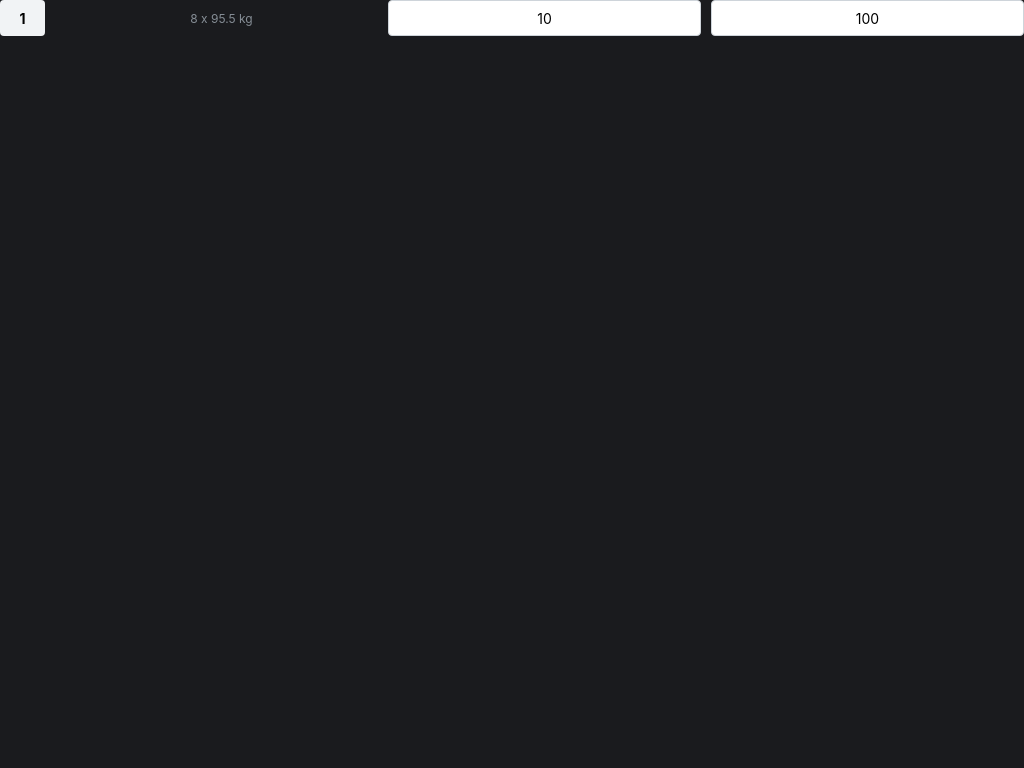
it: SetCard Component › opens a confirmation modal upon clicking the delete set button
Click the field named "Set Number": (22, 18) x1=0 y1=0 x2=45 y2=36
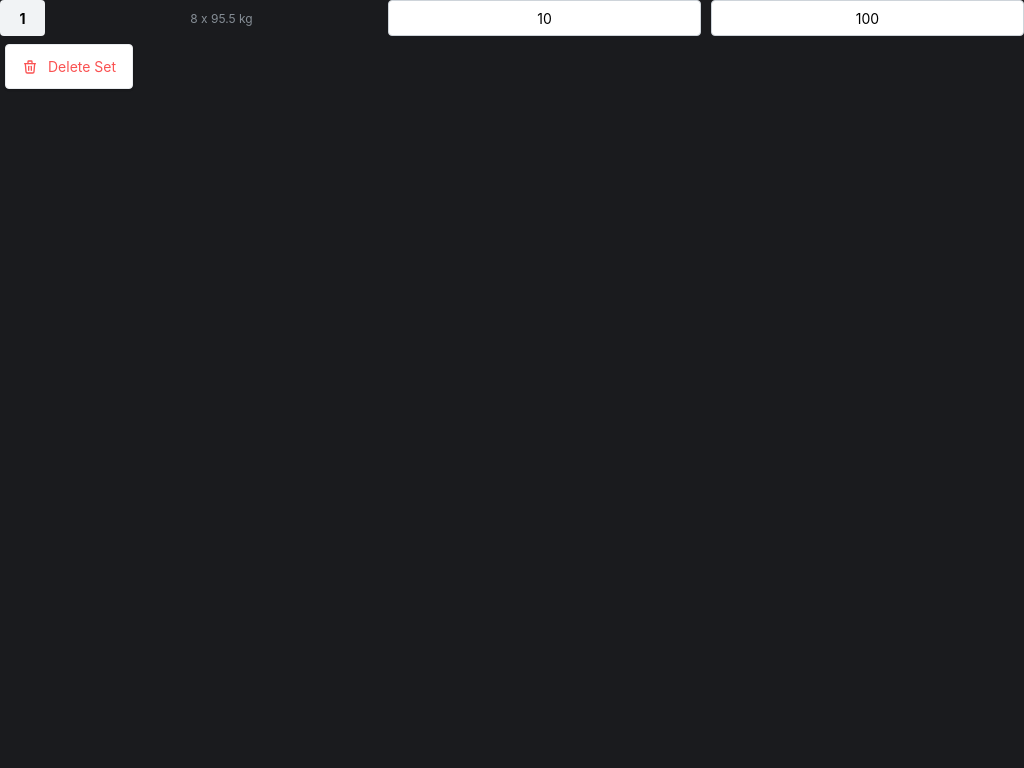
Click the menu item "Delete Set": (69, 66) x1=10 y1=49 x2=128 y2=84
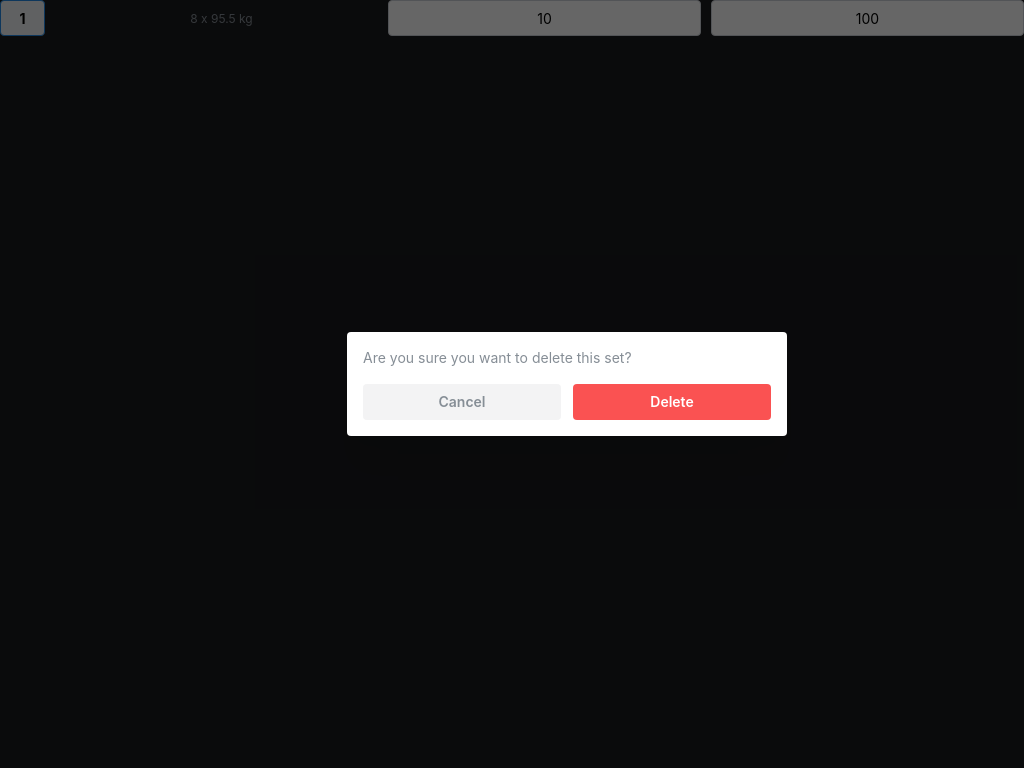
Check: the text "Are you sure you want to delete this set?" is shown, box x1=363 y1=349 x2=632 y2=366
Click the button "Delete": (672, 402) x1=573 y1=384 x2=771 y2=420
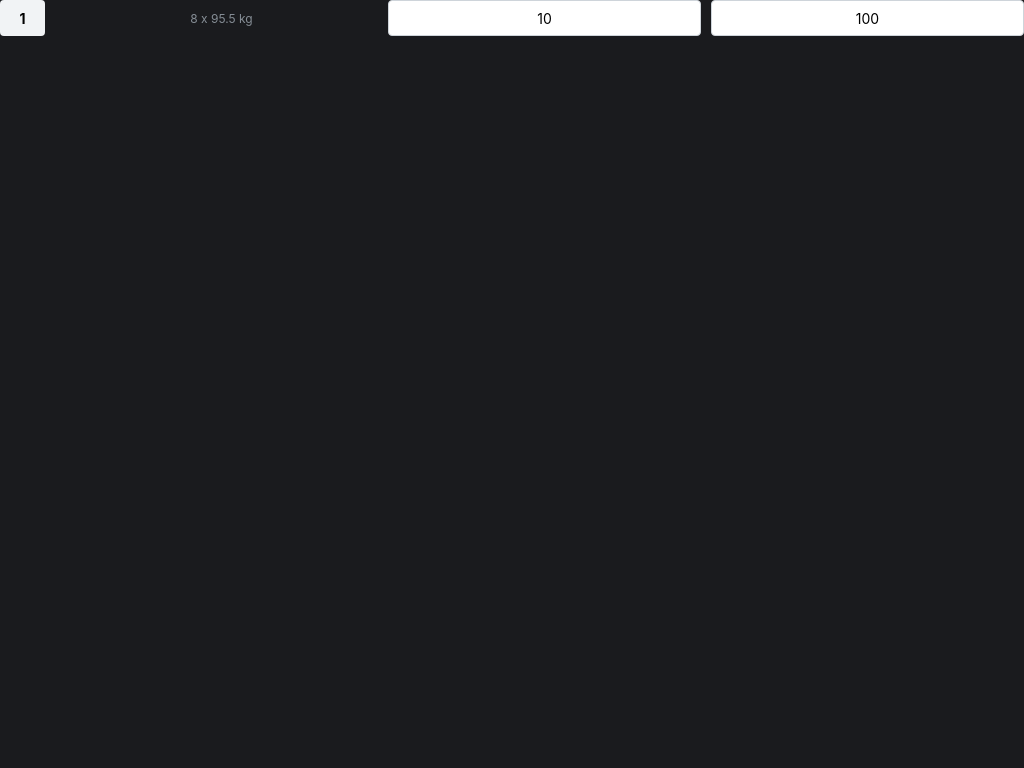
Check: the text "Are you sure you want to delete this set" is gone
